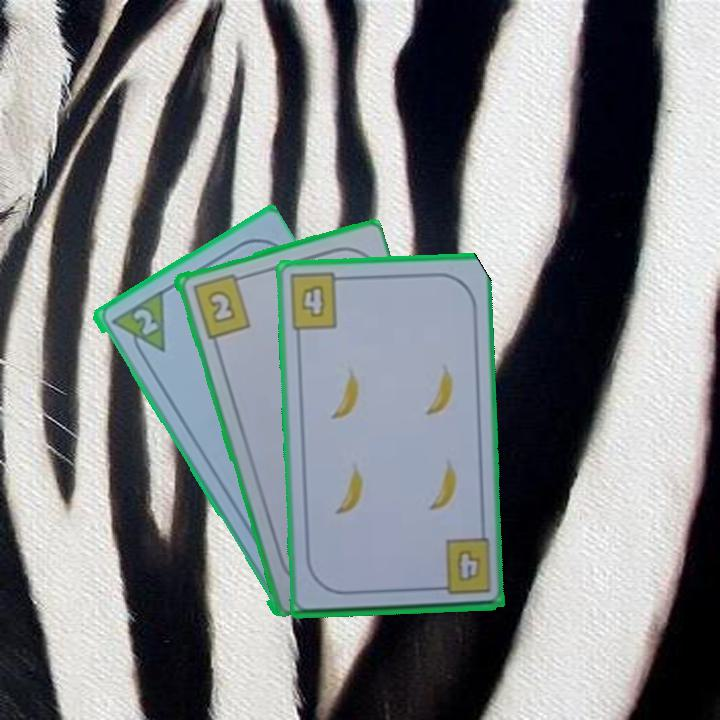2b: (188, 269, 253, 341)
2p: (129, 304, 161, 338)
4b: (429, 535, 494, 598), (285, 270, 349, 332)
